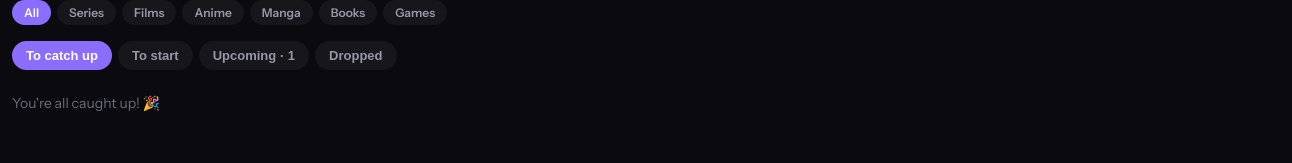
Scenario: CalendarView › shows a_voir livre with future year in À venir
This screenshot has width=1292, height=163.
Click the button "Upcoming · 1". click: click(254, 56)
box: [199, 41, 309, 70]
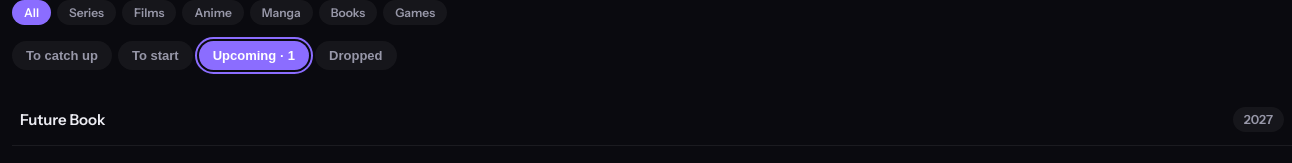
Now the text "Future Book" is shown, box [20, 110, 105, 129]
